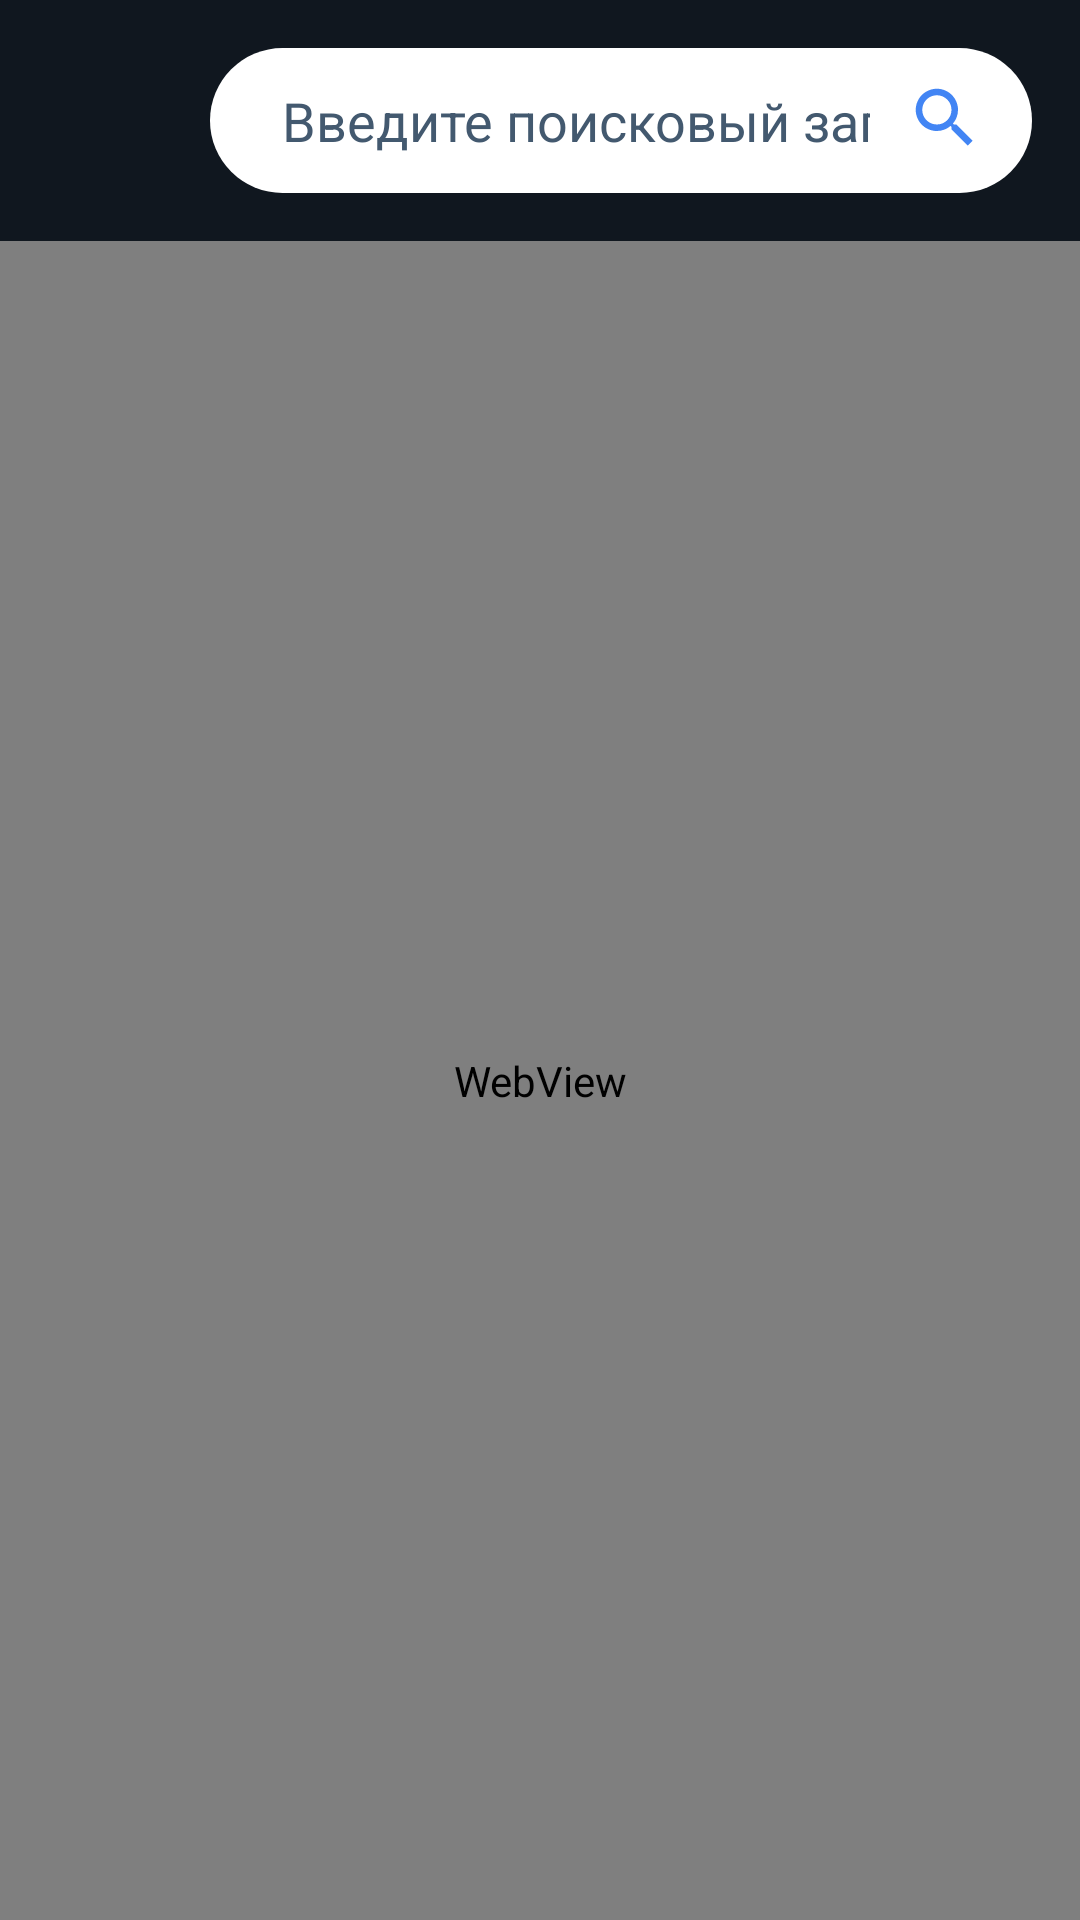

Locate icon controls on the screen. Image size 1080x1920, boxes as (x1, y1, x2, y2).
system search: (870, 48, 1020, 193)
